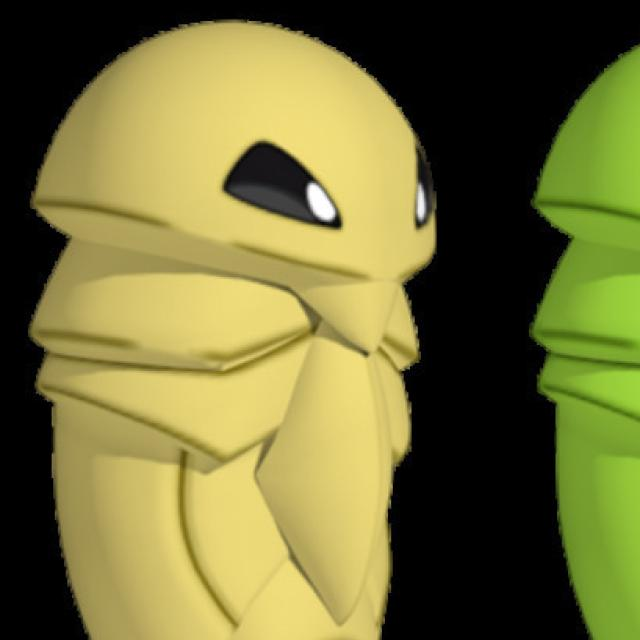Kakuna: (29, 15, 440, 640)
